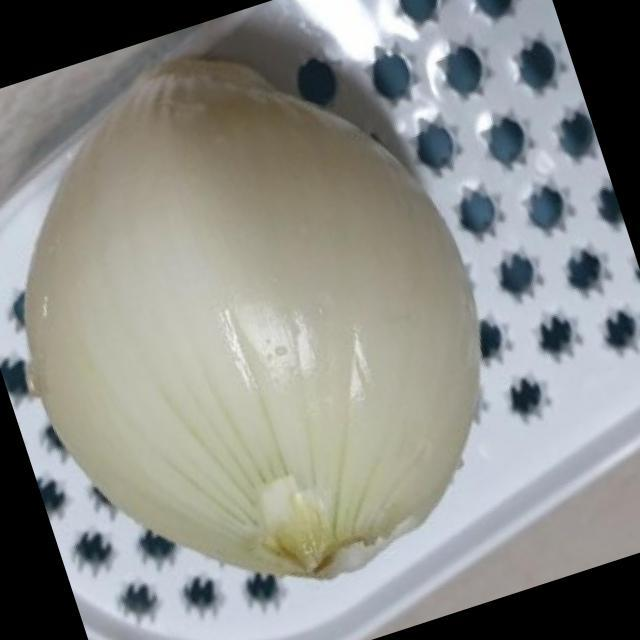Onion: (20, 56, 486, 575)
